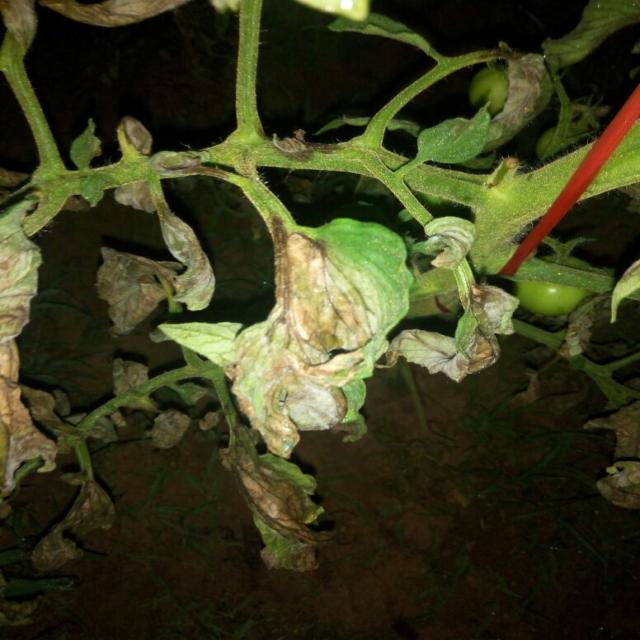Late_blight: (227, 217, 414, 458), (81, 177, 216, 340), (1, 205, 72, 497), (213, 432, 340, 572), (380, 279, 520, 384), (31, 473, 117, 570), (584, 385, 640, 509), (488, 45, 548, 138), (1, 1, 192, 30), (418, 215, 476, 275), (143, 407, 190, 450), (109, 113, 156, 156)
